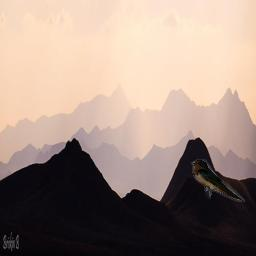Swallow: (191, 159, 245, 202)
